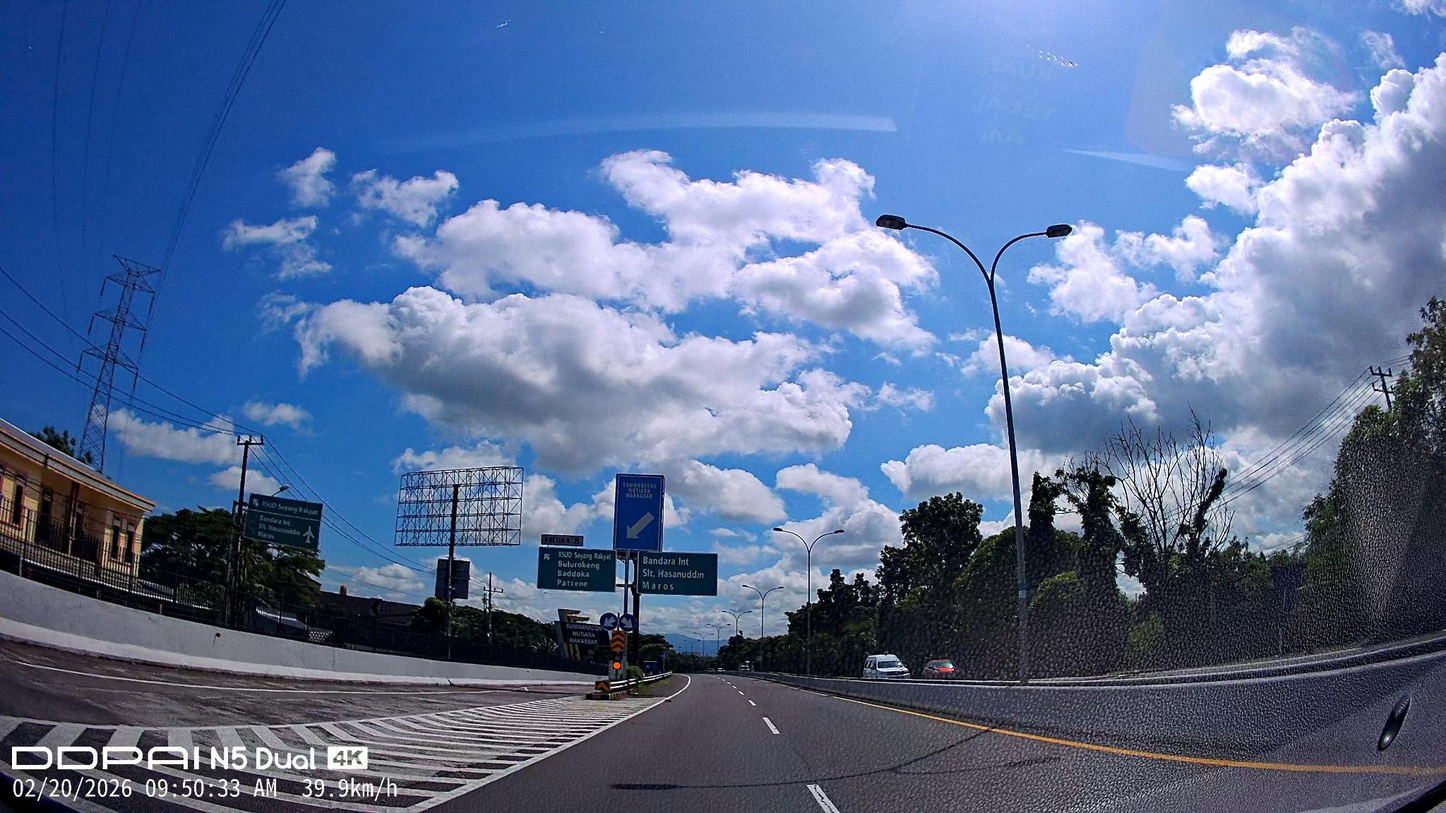rambu_teks: (636, 550, 718, 596), (537, 546, 617, 593)
